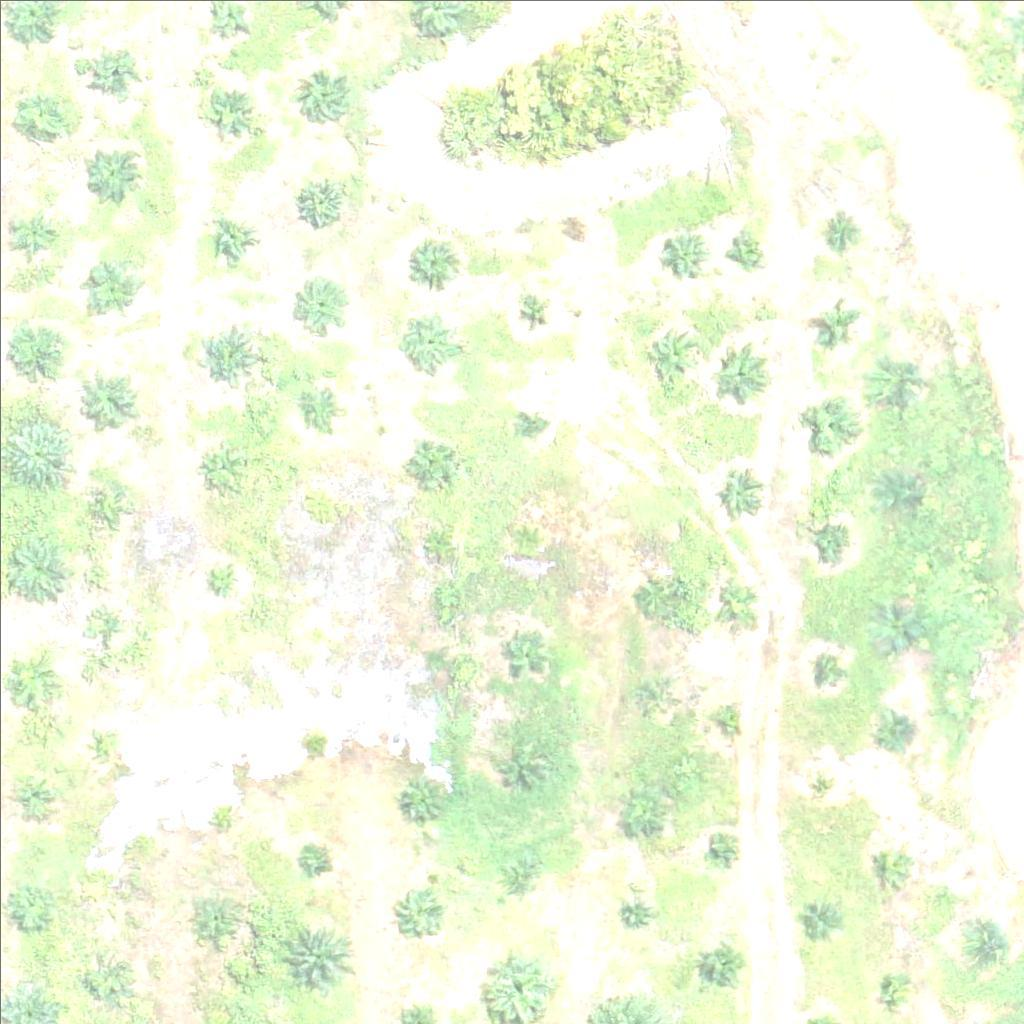Kelapa_Sawit: (2, 530, 77, 606), (281, 918, 356, 994), (81, 370, 144, 433), (196, 324, 259, 387), (642, 323, 705, 386), (403, 227, 465, 290), (199, 85, 261, 148), (399, 309, 461, 372), (709, 341, 771, 404), (625, 570, 675, 621), (295, 277, 345, 328), (298, 176, 348, 227), (207, 212, 257, 263), (405, 440, 455, 491), (80, 956, 130, 1007), (4, 883, 54, 934), (712, 576, 762, 627), (866, 837, 916, 888), (86, 52, 136, 102), (83, 258, 133, 308), (87, 148, 137, 198), (20, 92, 70, 142), (301, 74, 351, 124), (5, 650, 55, 700), (186, 890, 236, 940), (9, 767, 59, 817), (804, 506, 854, 556), (806, 397, 856, 447), (717, 464, 767, 514), (657, 228, 707, 278), (397, 884, 447, 934), (394, 770, 444, 820), (497, 631, 547, 681), (497, 738, 547, 788), (490, 852, 540, 902), (617, 782, 667, 832), (698, 942, 748, 992), (870, 598, 920, 648), (868, 347, 918, 397), (17, 214, 55, 252), (304, 384, 342, 422), (819, 304, 857, 342), (818, 213, 856, 251), (731, 230, 769, 268), (878, 709, 916, 747), (200, 441, 237, 479), (513, 293, 550, 331), (508, 518, 546, 555), (634, 673, 672, 710), (875, 966, 913, 1003), (879, 471, 916, 509), (416, 523, 453, 561), (800, 894, 837, 931), (968, 922, 1005, 959), (302, 845, 327, 871), (90, 489, 115, 515), (97, 735, 122, 760), (92, 607, 117, 632), (209, 564, 234, 589), (209, 808, 234, 833), (519, 409, 544, 434), (711, 836, 736, 861), (718, 706, 743, 731), (806, 767, 831, 792), (812, 655, 837, 680), (303, 619, 328, 644), (624, 900, 648, 925)
